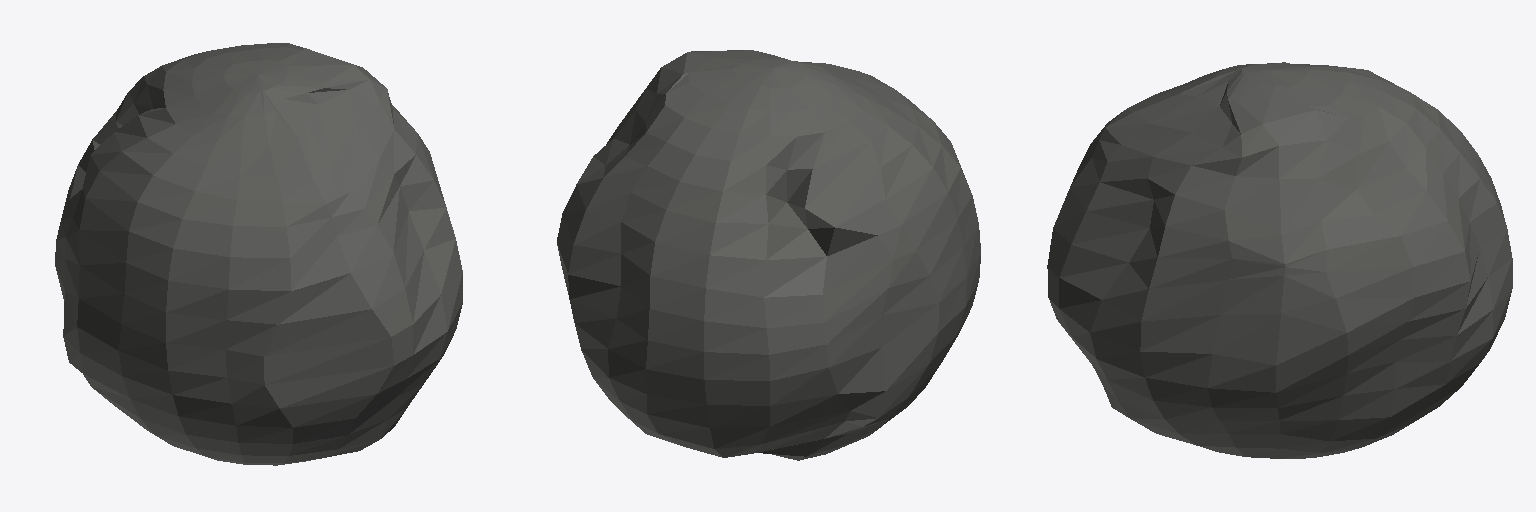
File: ball1.obj
3 views of the same model, side by side, from view 1: azimuth 30°, elevation 25°; view 2: azimuth 150°, elevation 25°; view 3: azimuth 270°, elevation 25° (orthographic).
Parts seen in each view (by area): view 1: ball1:pSphere1 ball1:polySurface1; view 2: ball1:pSphere1 ball1:polySurface1; view 3: ball1:pSphere1 ball1:polySurface1.
Boxes of the visible parts, x1=… form: ball1:pSphere1 ball1:polySurface1: x1=55, y1=43, x2=462, y2=465; ball1:pSphere1 ball1:polySurface1: x1=557, y1=50, x2=980, y2=460; ball1:pSphere1 ball1:polySurface1: x1=1047, y1=62, x2=1512, y2=458.
Size of the model in its own units: 3.34 by 3.38 by 3.85.